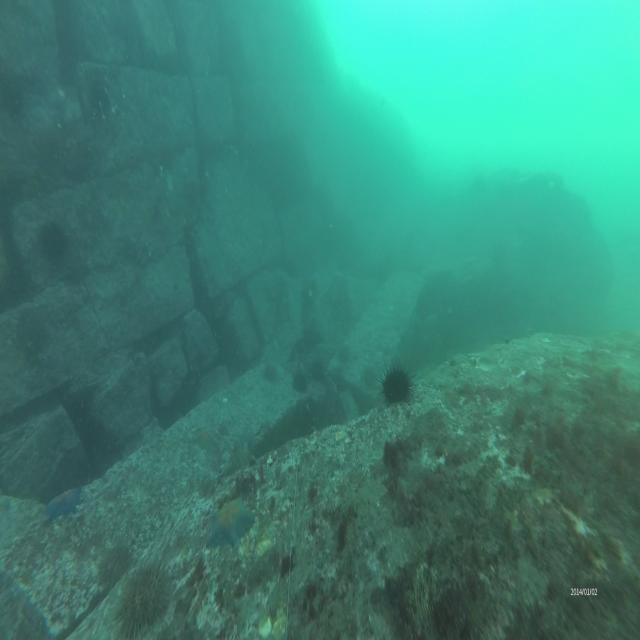echinus: (118, 559, 172, 637), (380, 360, 414, 407), (39, 218, 67, 260), (290, 370, 306, 395), (309, 358, 323, 382)
starfish: (209, 492, 253, 552), (44, 488, 82, 522)
